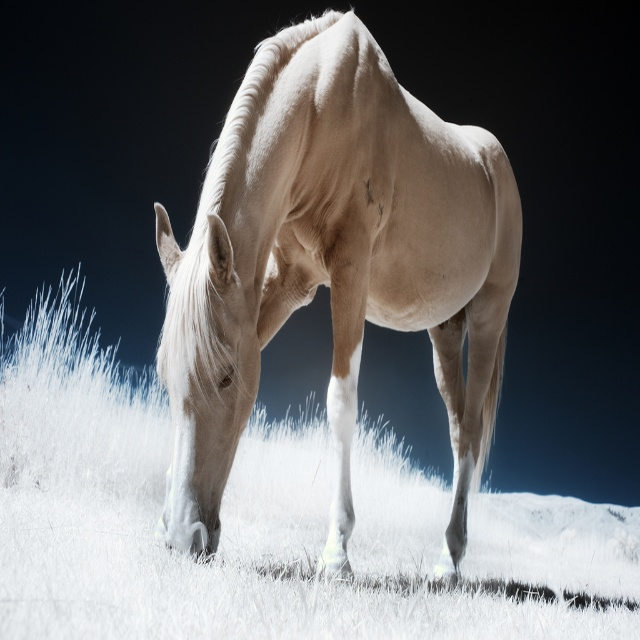Horse: (155, 4, 524, 593)
